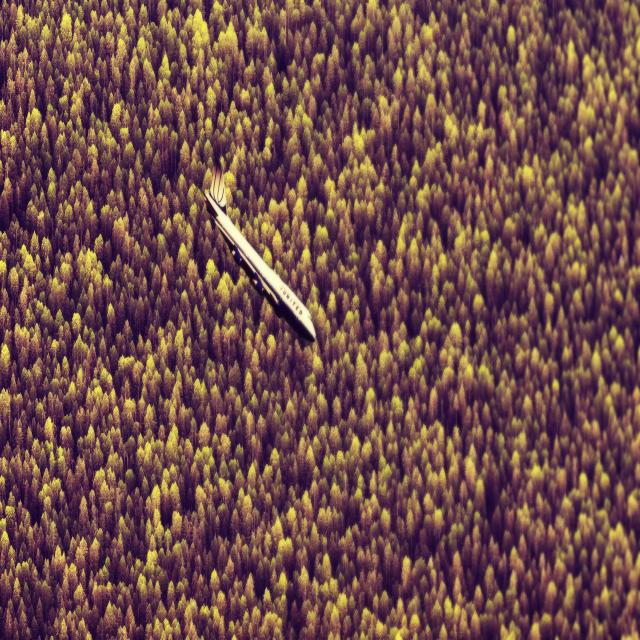airplane: (202, 159, 316, 343)
